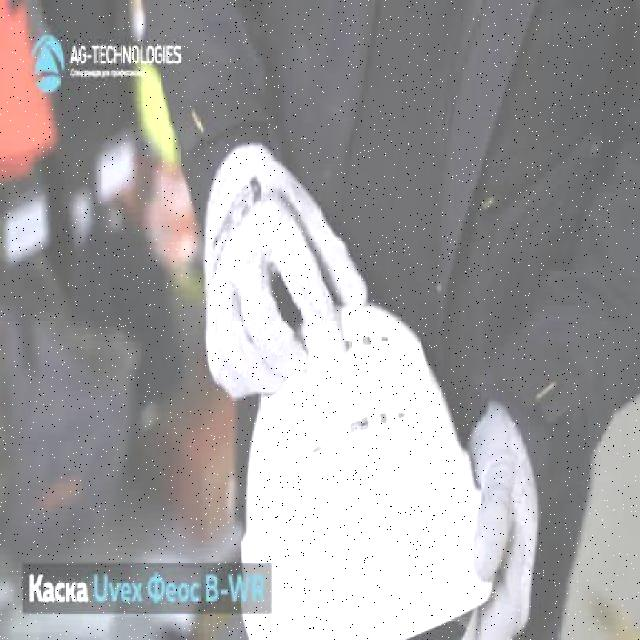Gloves: (201, 138, 370, 400), (458, 396, 542, 638)
Helmet: (238, 298, 496, 638)
